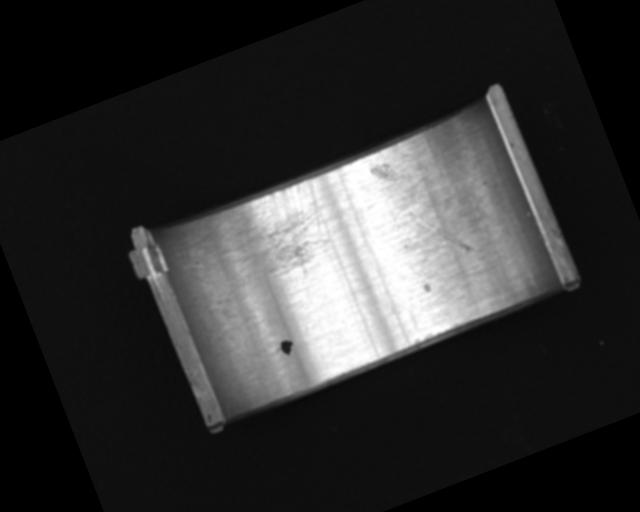blot: (277, 337, 297, 358)
bruise: (367, 157, 401, 189), (421, 281, 433, 295)
nick: (409, 195, 471, 266)
scratch: (186, 176, 343, 309)
